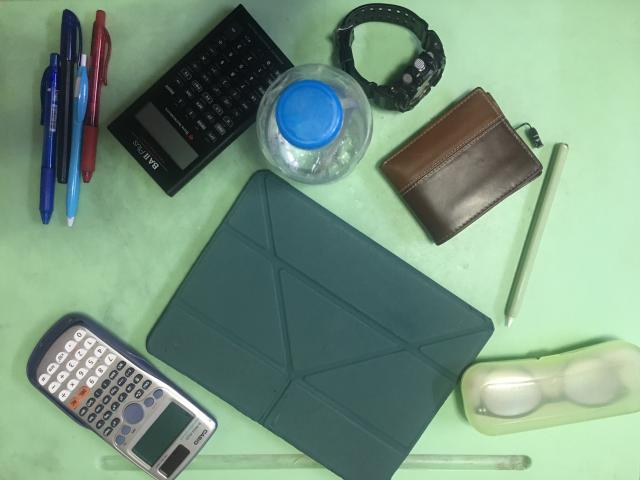Glasses: (461, 341, 640, 435)
Pen: (34, 4, 106, 231)
Wallet: (380, 88, 542, 245)
Watch: (335, 4, 445, 112)
bottle: (256, 64, 372, 184)
